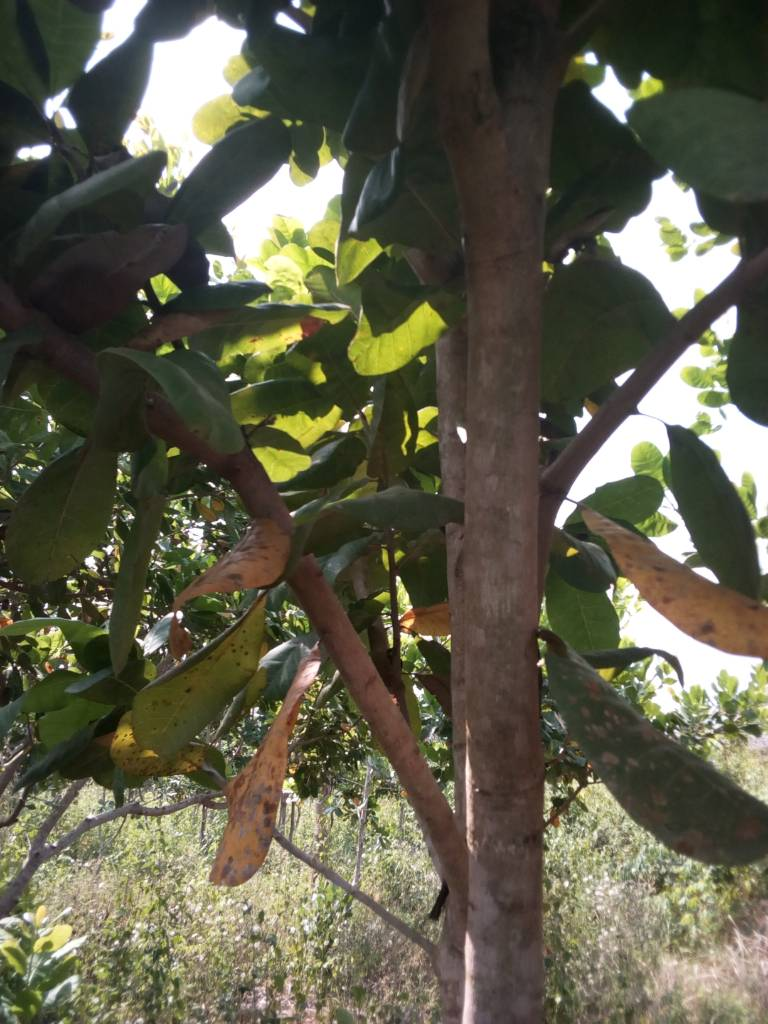Anthracnose: (543, 633, 766, 860), (579, 503, 768, 658), (205, 650, 321, 886), (118, 589, 279, 757), (105, 288, 352, 358), (157, 510, 277, 632)
